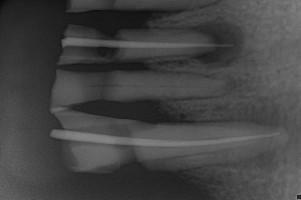Furcation Involvement: (212, 96, 301, 170), (192, 21, 245, 64)
